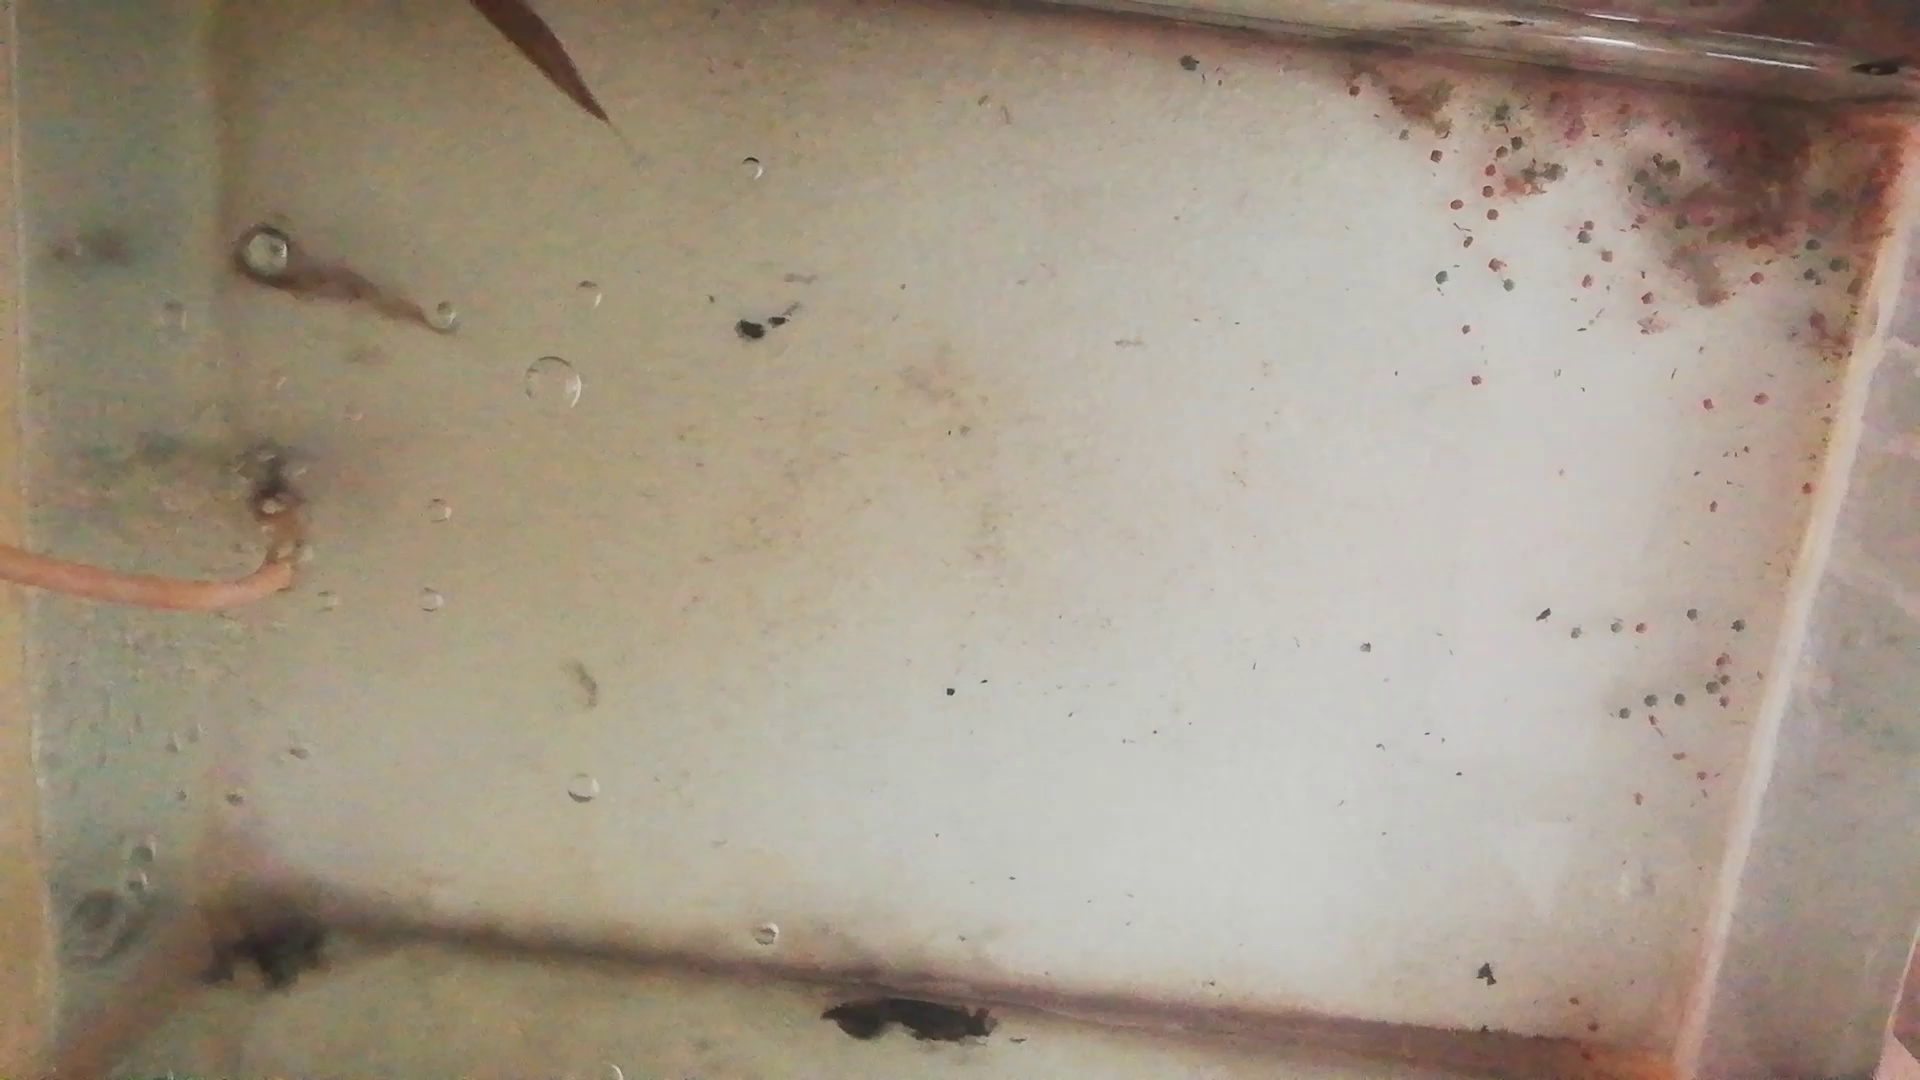fish: (227, 224, 429, 334), (459, 1, 612, 124)
